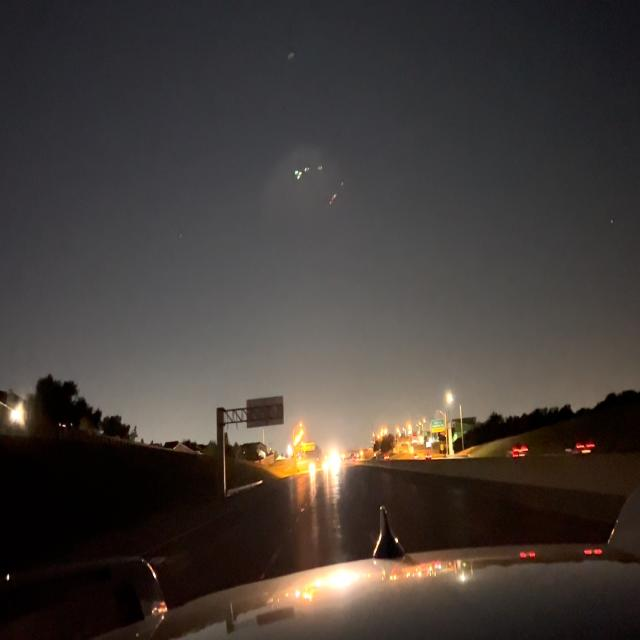back-of-sign: (246, 396, 284, 427)
